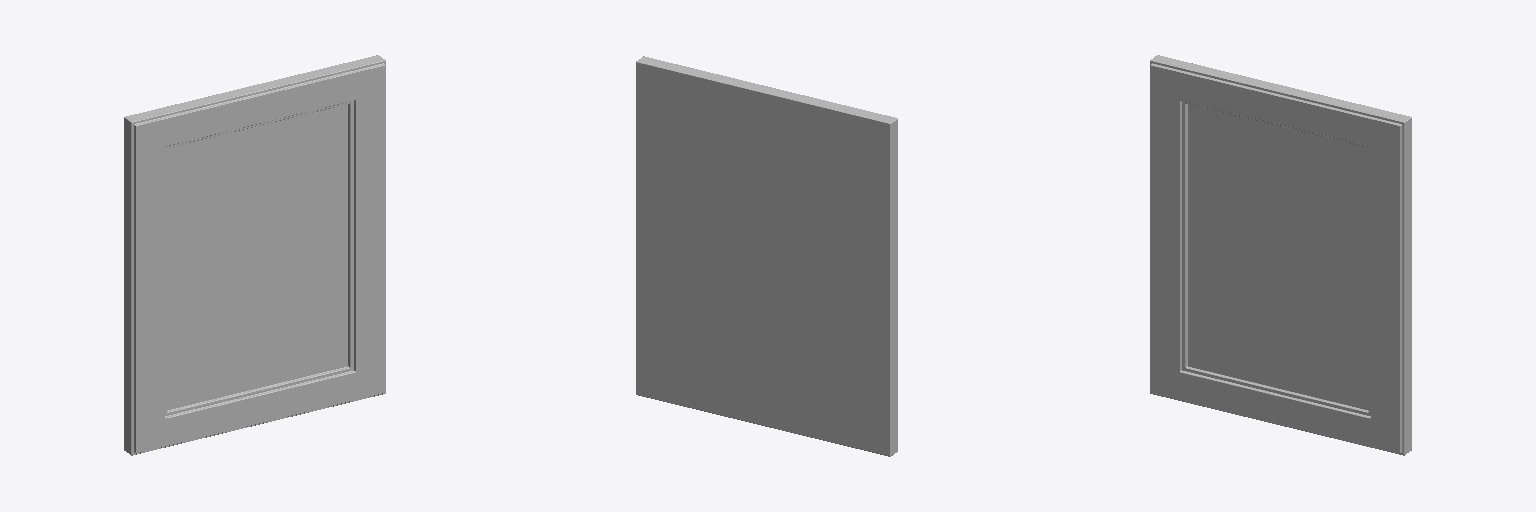
The model's file is pictureframe.obj.
The picture shows the model from 3 angles: view 1: azimuth 30°, elevation 25°; view 2: azimuth 150°, elevation 25°; view 3: azimuth 330°, elevation 25°; orthographic projection.
Visible parts, largest first — view 1: Frame; view 2: Frame; view 3: Frame.
Part boxes in pixels (left/top/right/bottom): Frame: left=124, top=55, right=385, bottom=455; Frame: left=636, top=56, right=897, bottom=456; Frame: left=1150, top=55, right=1411, bottom=455.
Bounding box in the file's own units: 4 × 5 × 0.2581.